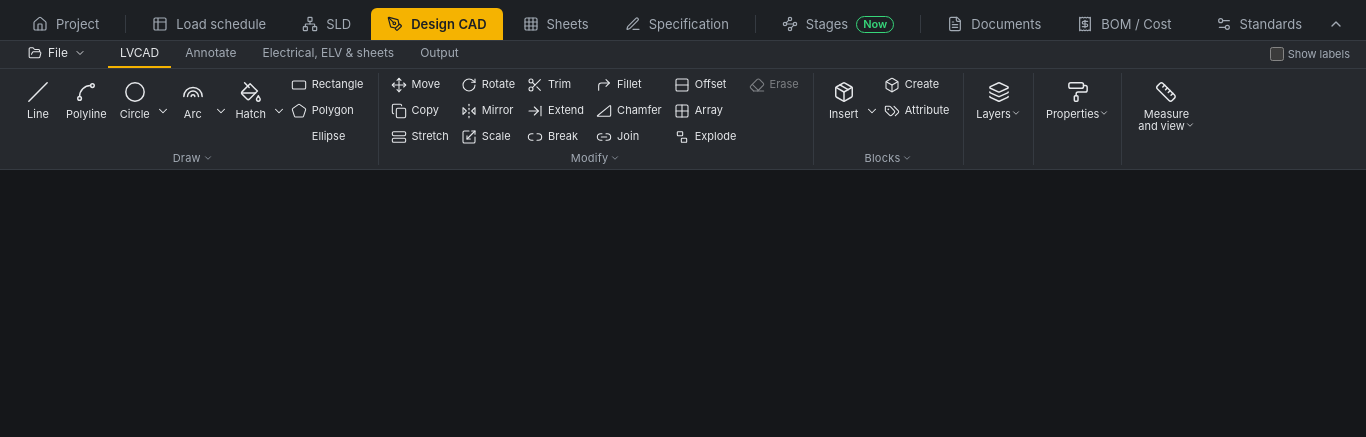
Test: Output: layout, viewports, plot, publish, export › Arrange lists the nine arrangements; Scale lists the project's scales and the scale list
The image size is (1366, 437).
Later steps or results of the test are not shown.
Click the tab "Output": [439, 54] box left=408, top=41, right=471, bottom=68
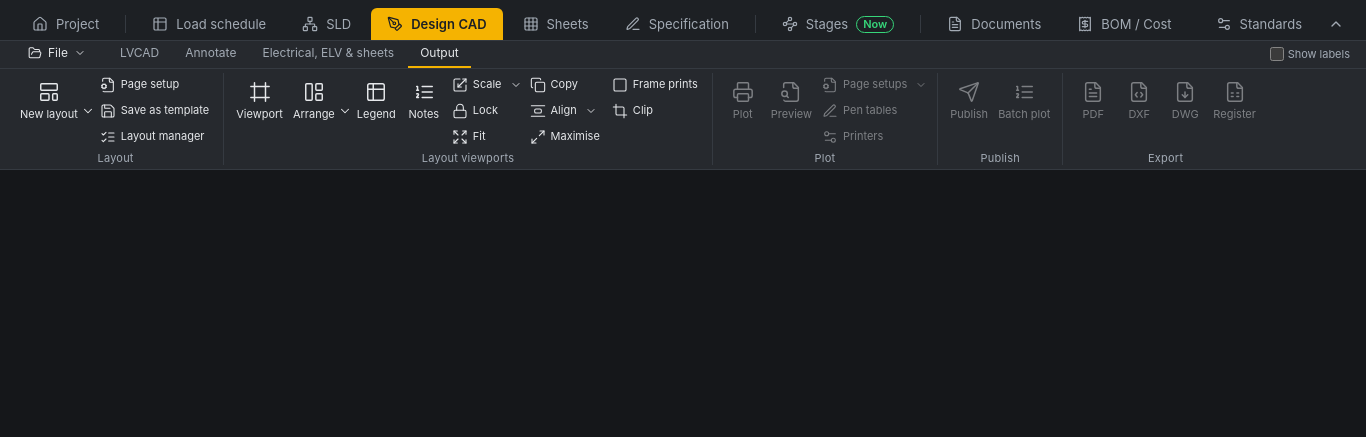
Click the button "Arrange": [314, 111] box left=289, top=73, right=339, bottom=149
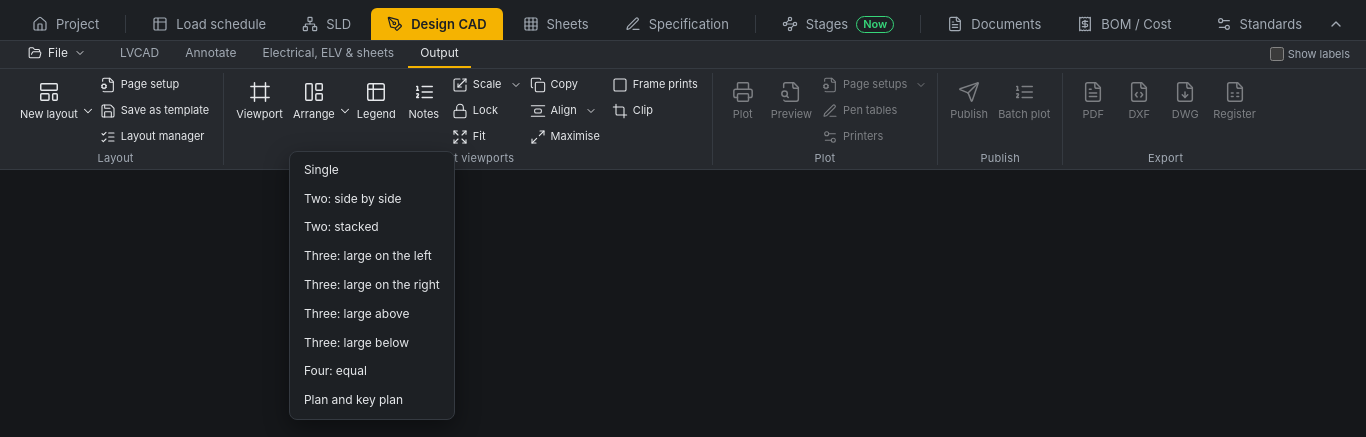
expect the menu item "Single" is shown: met, box left=294, top=156, right=450, bottom=185
